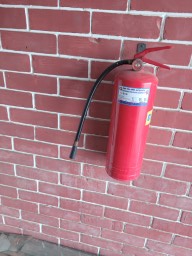fire_extinguisher: (33, 25, 136, 163), (34, 26, 136, 117)
